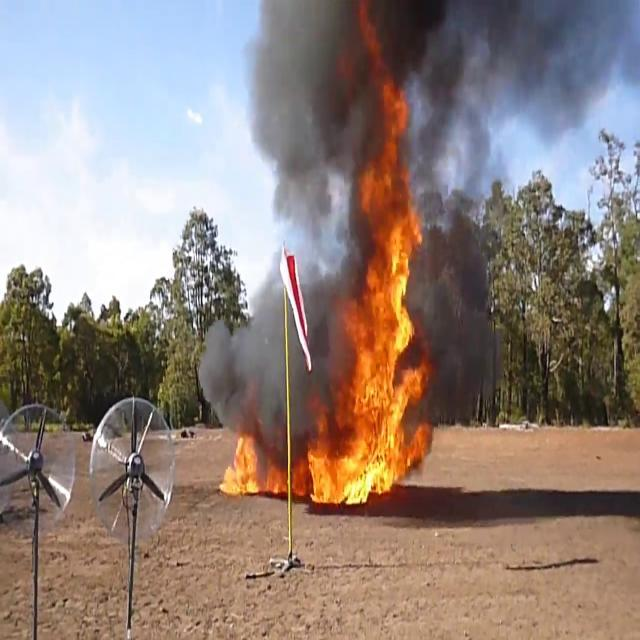Fire: (313, 127, 437, 509), (218, 426, 284, 500)
Smoke: (228, 1, 593, 268), (412, 177, 502, 426)
